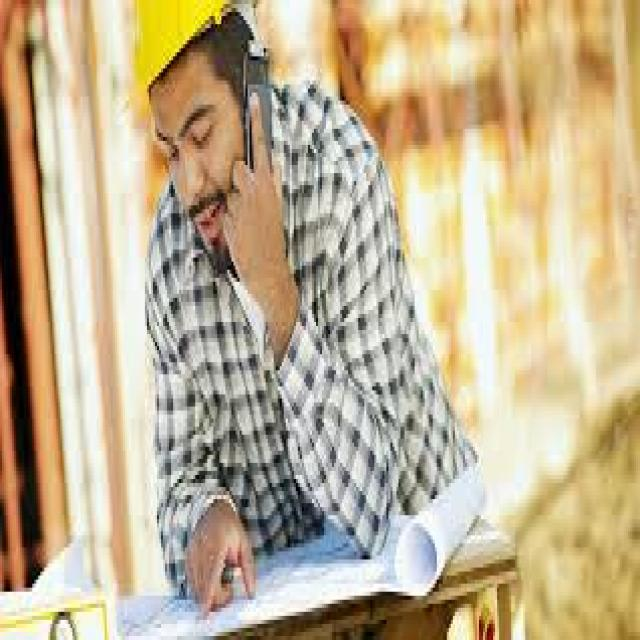Safety-Helmet: (115, 0, 272, 113)
